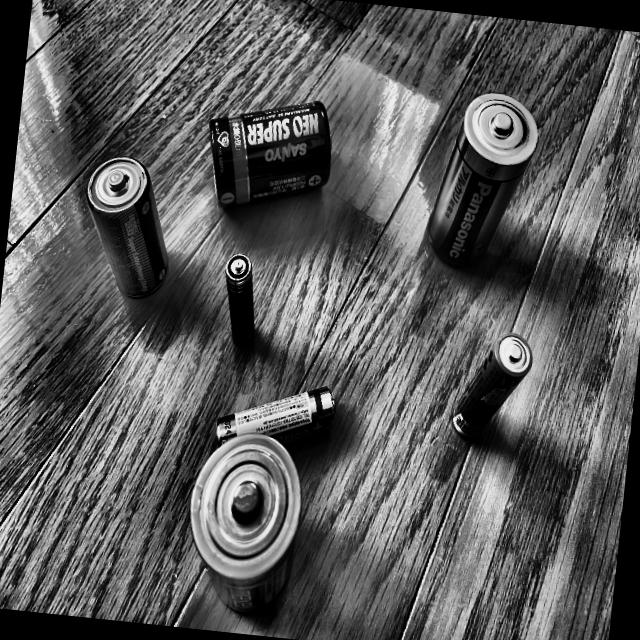drycell: (198, 83, 348, 224), (72, 148, 182, 308)
